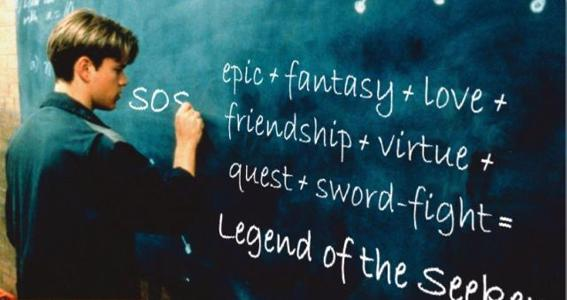person: (5, 11, 204, 300)
